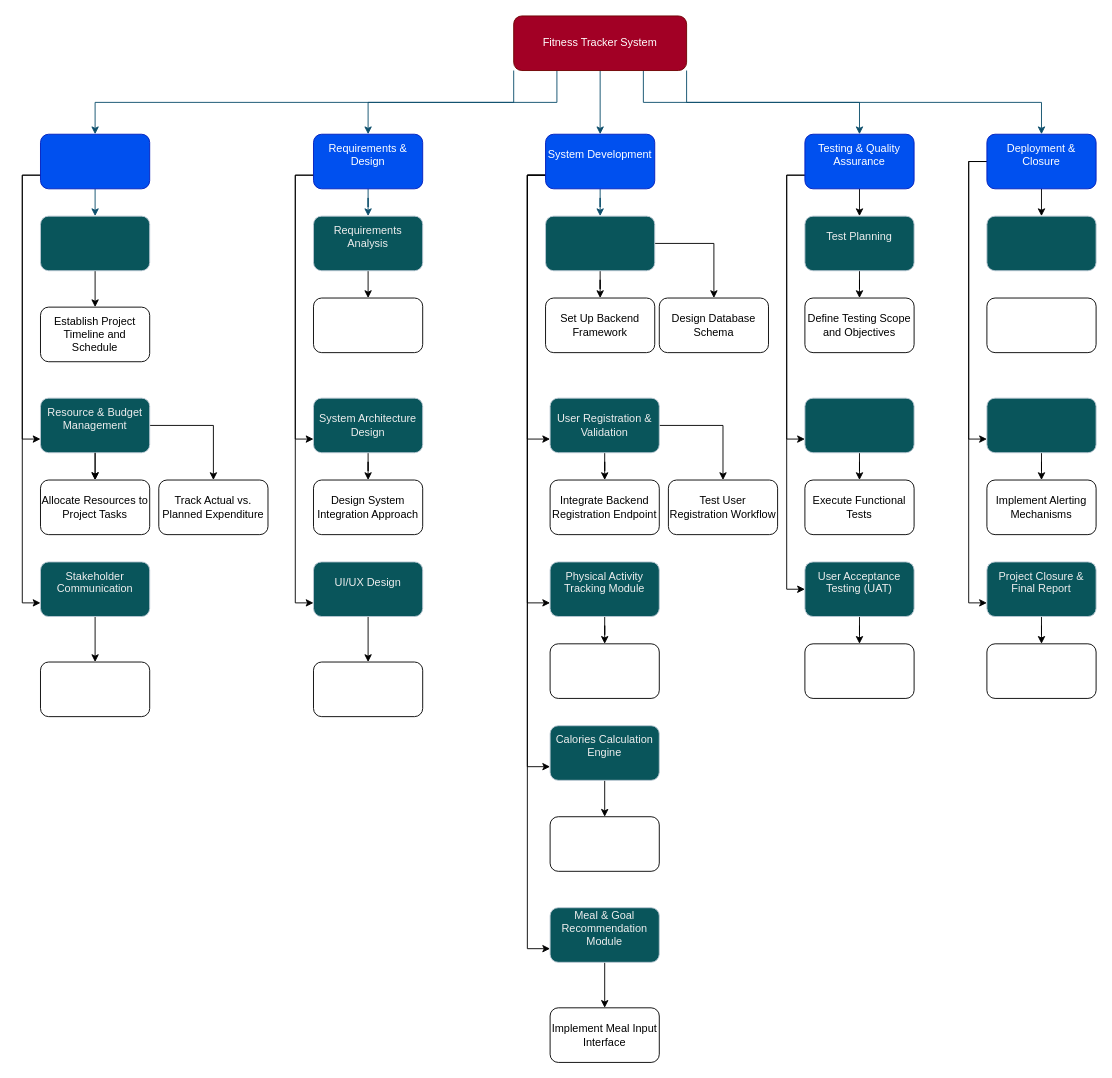
This 1112x1078 diagram has some shape labels left out. Each missing label, with the centre of its shape:
Backend Development: the point at 600,243
Define Visual Style Guide: the point at 368,689
Deploy Application to Target Environment: the point at 1041,325
Establish Communication Channels: the point at 95,689
Functional & Integration Testing: the point at 859,425
Implement Activity Input Interface: the point at 604,670
Implement Calorie Calculation Engine Backend & Frontend: the point at 604,843
Monitoring & Stabilization: the point at 1041,425
Prepare Final Project Report: the point at 1041,670
Prioritize Requirements: the point at 368,325
Project Management: the point at 95,161
Project Planning & Control: the point at 95,243
Set Up UAT Testing Environment: the point at 859,670
System Deployment: the point at 1041,243
